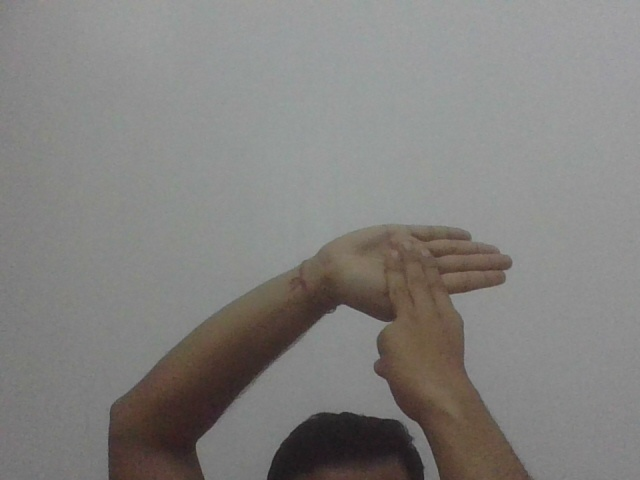M: (343, 222, 517, 346)
